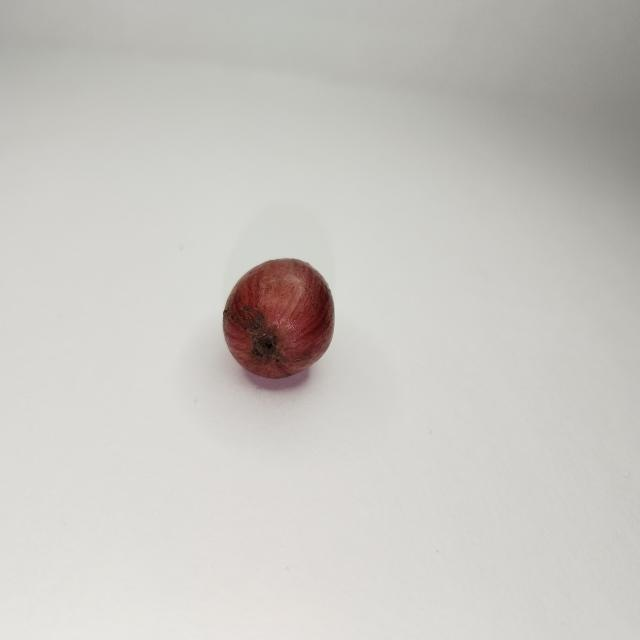Infectado: (220, 259, 337, 385)
